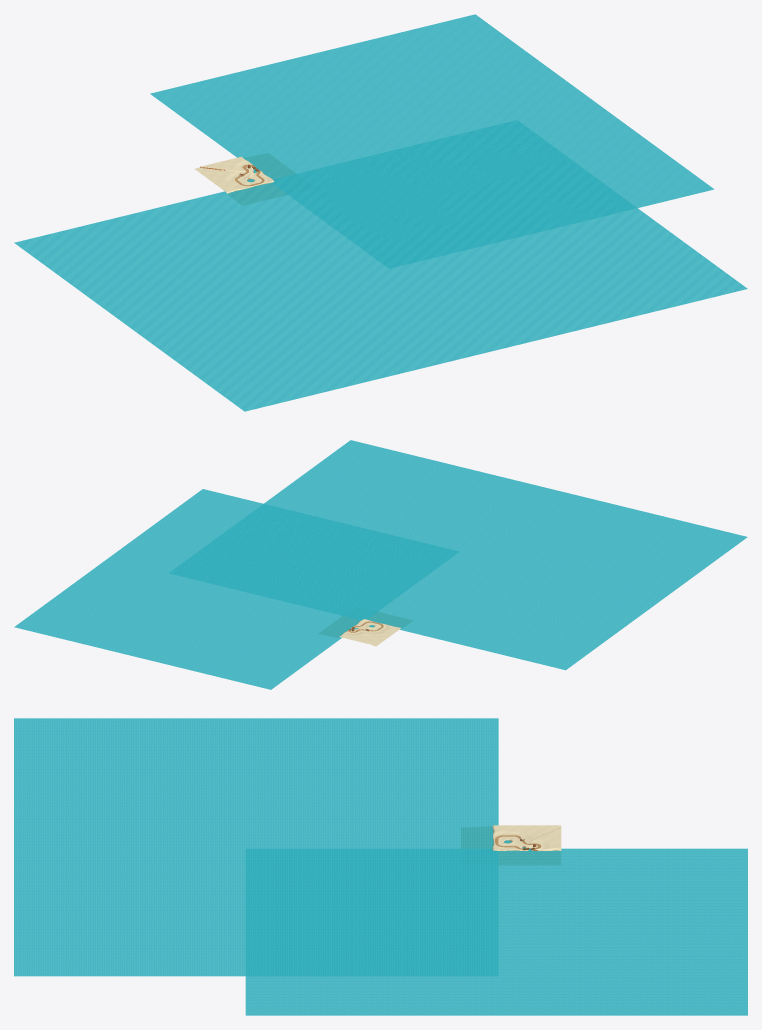
The picture shows the model from 3 angles, top to bottom: view 1: azimuth 30°, elevation 25°; view 2: azimuth 150°, elevation 25°; view 3: azimuth 270°, elevation 25°; orthographic projection. The views are drawn at different scales.
Parts seen in each view (by area): view 1: Sea South, Sea East, Sand; view 2: Sea South, Sea East, Sand; view 3: Sea South, Sea East, Sand.
Boxes of the visible parts, x1,y1,x2,y2 form: Sea South: (14,120,747,411); Sea East: (150,14,714,259); Sand: (195,156,274,193); Sea South: (169,440,747,670); Sea East: (14,489,455,689); Sand: (338,619,400,646); Sea South: (14,718,498,976); Sea East: (245,848,747,1015); Sand: (492,825,561,850).
Size of the model in its own units: 3920 by 31.08 by 4090.
12 materials, 12 textured.
